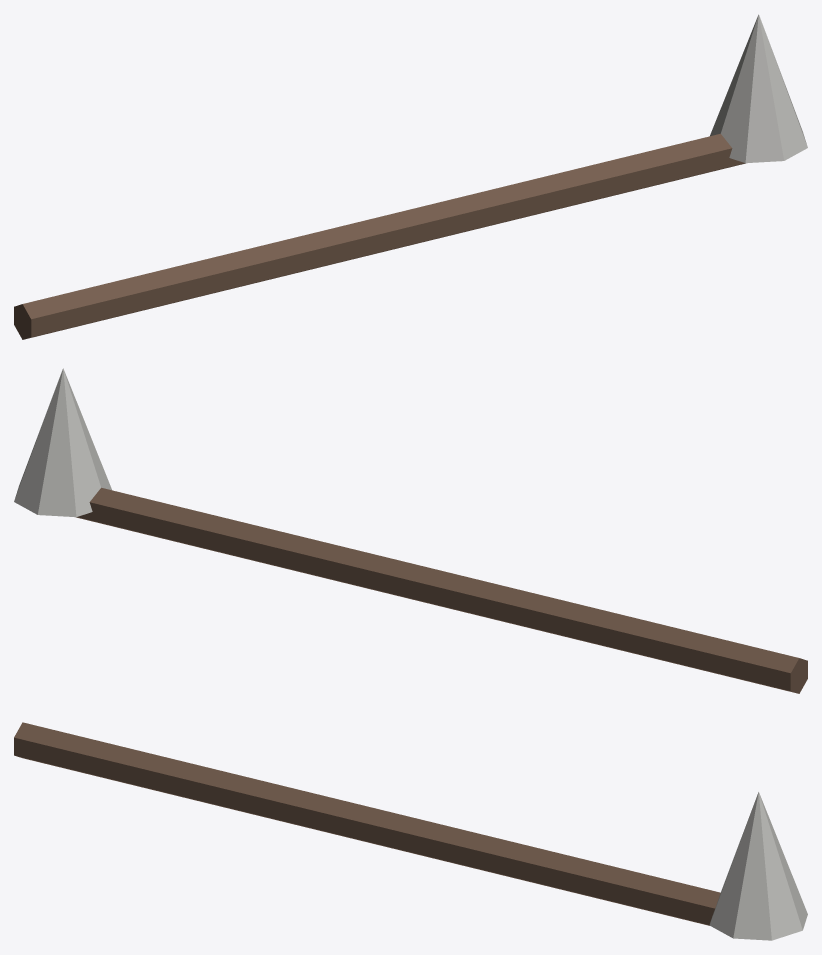
File: spear_simple.glb
3 renders of one model, top to bottom at view 1: azimuth 30°, elevation 25°; view 2: azimuth 150°, elevation 25°; view 3: azimuth 330°, elevation 25°, orthographic.
Visible parts, largest first — view 1: spear_shaft, spear_tip; view 2: spear_shaft, spear_tip; view 3: spear_shaft, spear_tip.
Part boxes in pixels (x1=…): spear_shaft: x1=14, y1=133, x2=745, y2=339; spear_tip: x1=710, y1=14, x2=807, y2=163; spear_shaft: x1=76, y1=487, x2=807, y2=693; spear_tip: x1=14, y1=368, x2=111, y2=517; spear_shaft: x1=14, y1=722, x2=720, y2=925; spear_tip: x1=709, y1=792, x2=807, y2=940.
Bounding box in the file's own units: 1.59 × 0.285 × 0.18.
